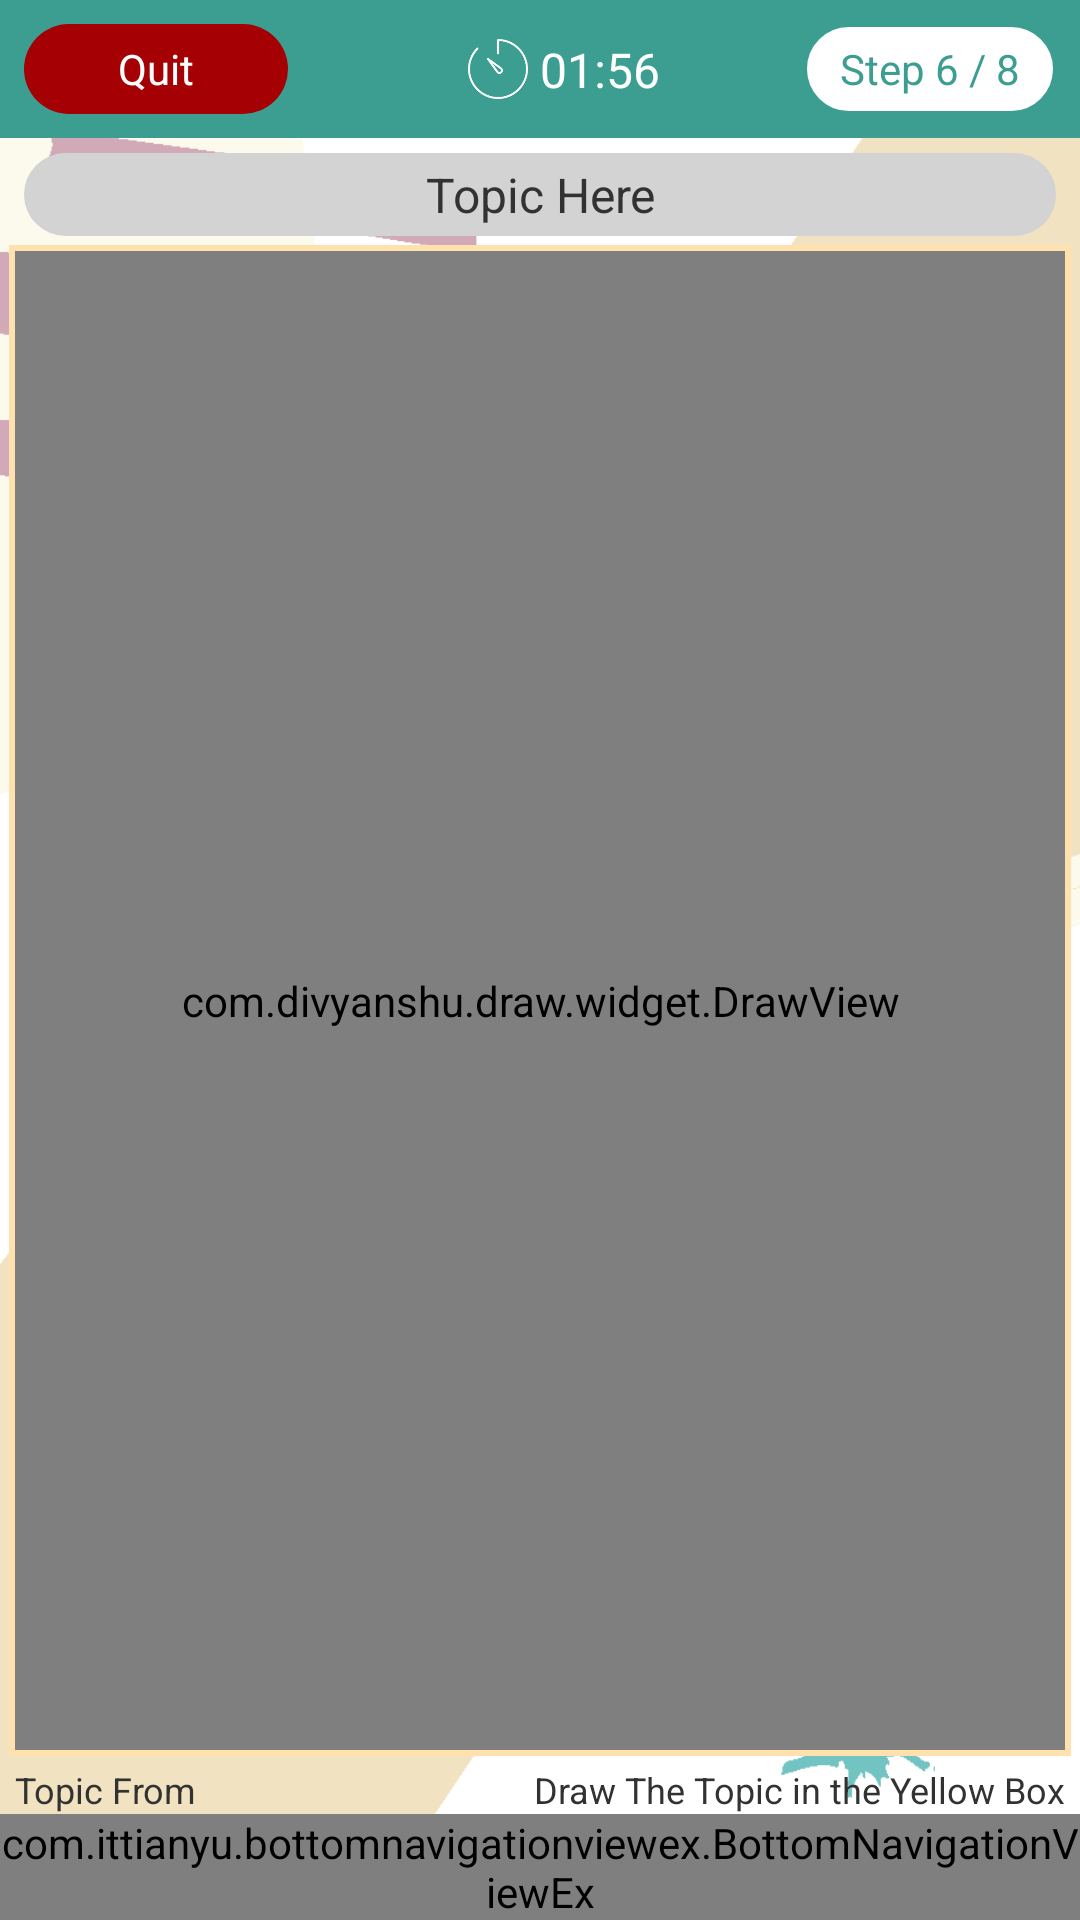

Icon click points for this 1080px x 1920px phone screenshot, format (x=x, y=y):
timer: (x=498, y=69)
